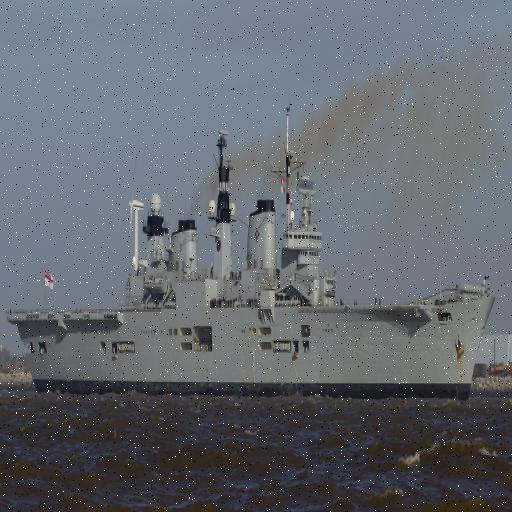Portanaves: (11, 94, 499, 411)
